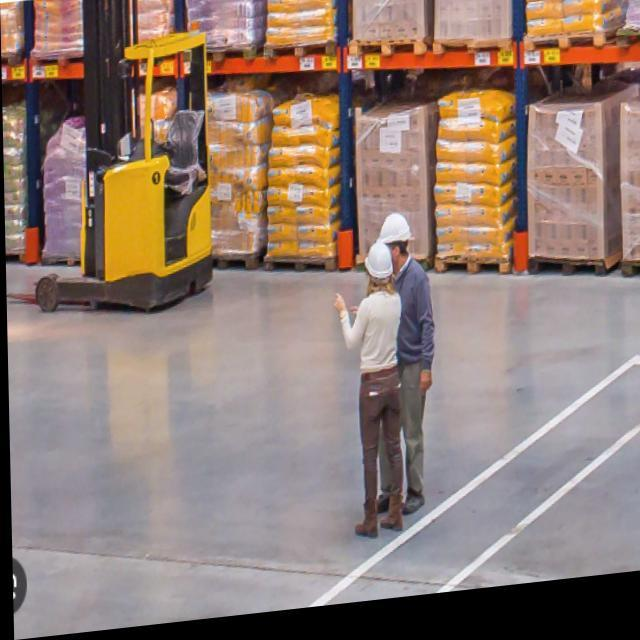hard_hat: (357, 237, 398, 296), (377, 207, 417, 263)
shoes: (365, 476, 430, 520)
